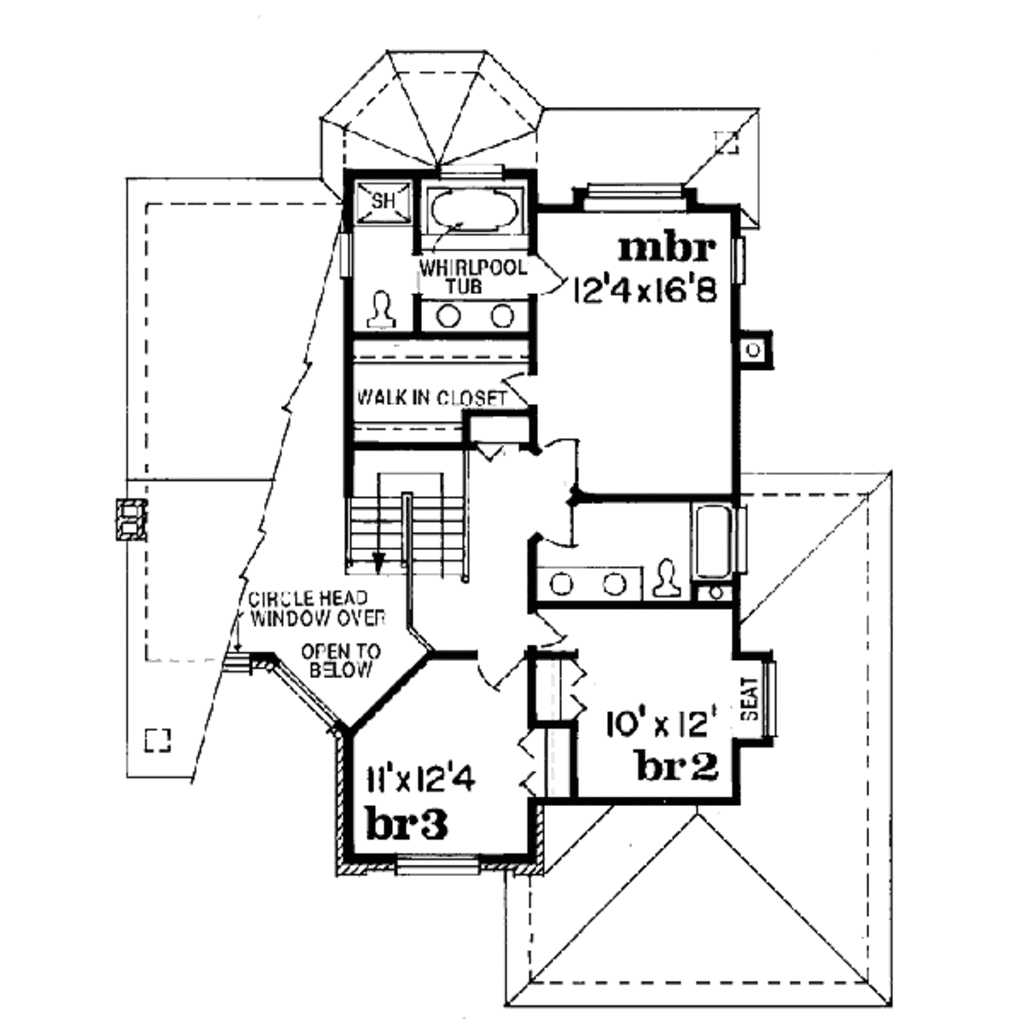door: (533, 511, 589, 560), (464, 652, 532, 692), (527, 254, 572, 301), (543, 438, 589, 482), (492, 371, 537, 409), (527, 609, 573, 644)
large_sink: (359, 287, 410, 341), (649, 549, 684, 600)
small_sink: (422, 297, 522, 333), (541, 573, 638, 605)
stairs: (346, 444, 475, 585)
tub: (422, 185, 527, 239), (698, 497, 741, 582)
window: (575, 176, 694, 216), (394, 846, 486, 882), (327, 228, 362, 289), (725, 238, 752, 292), (760, 649, 773, 741)
